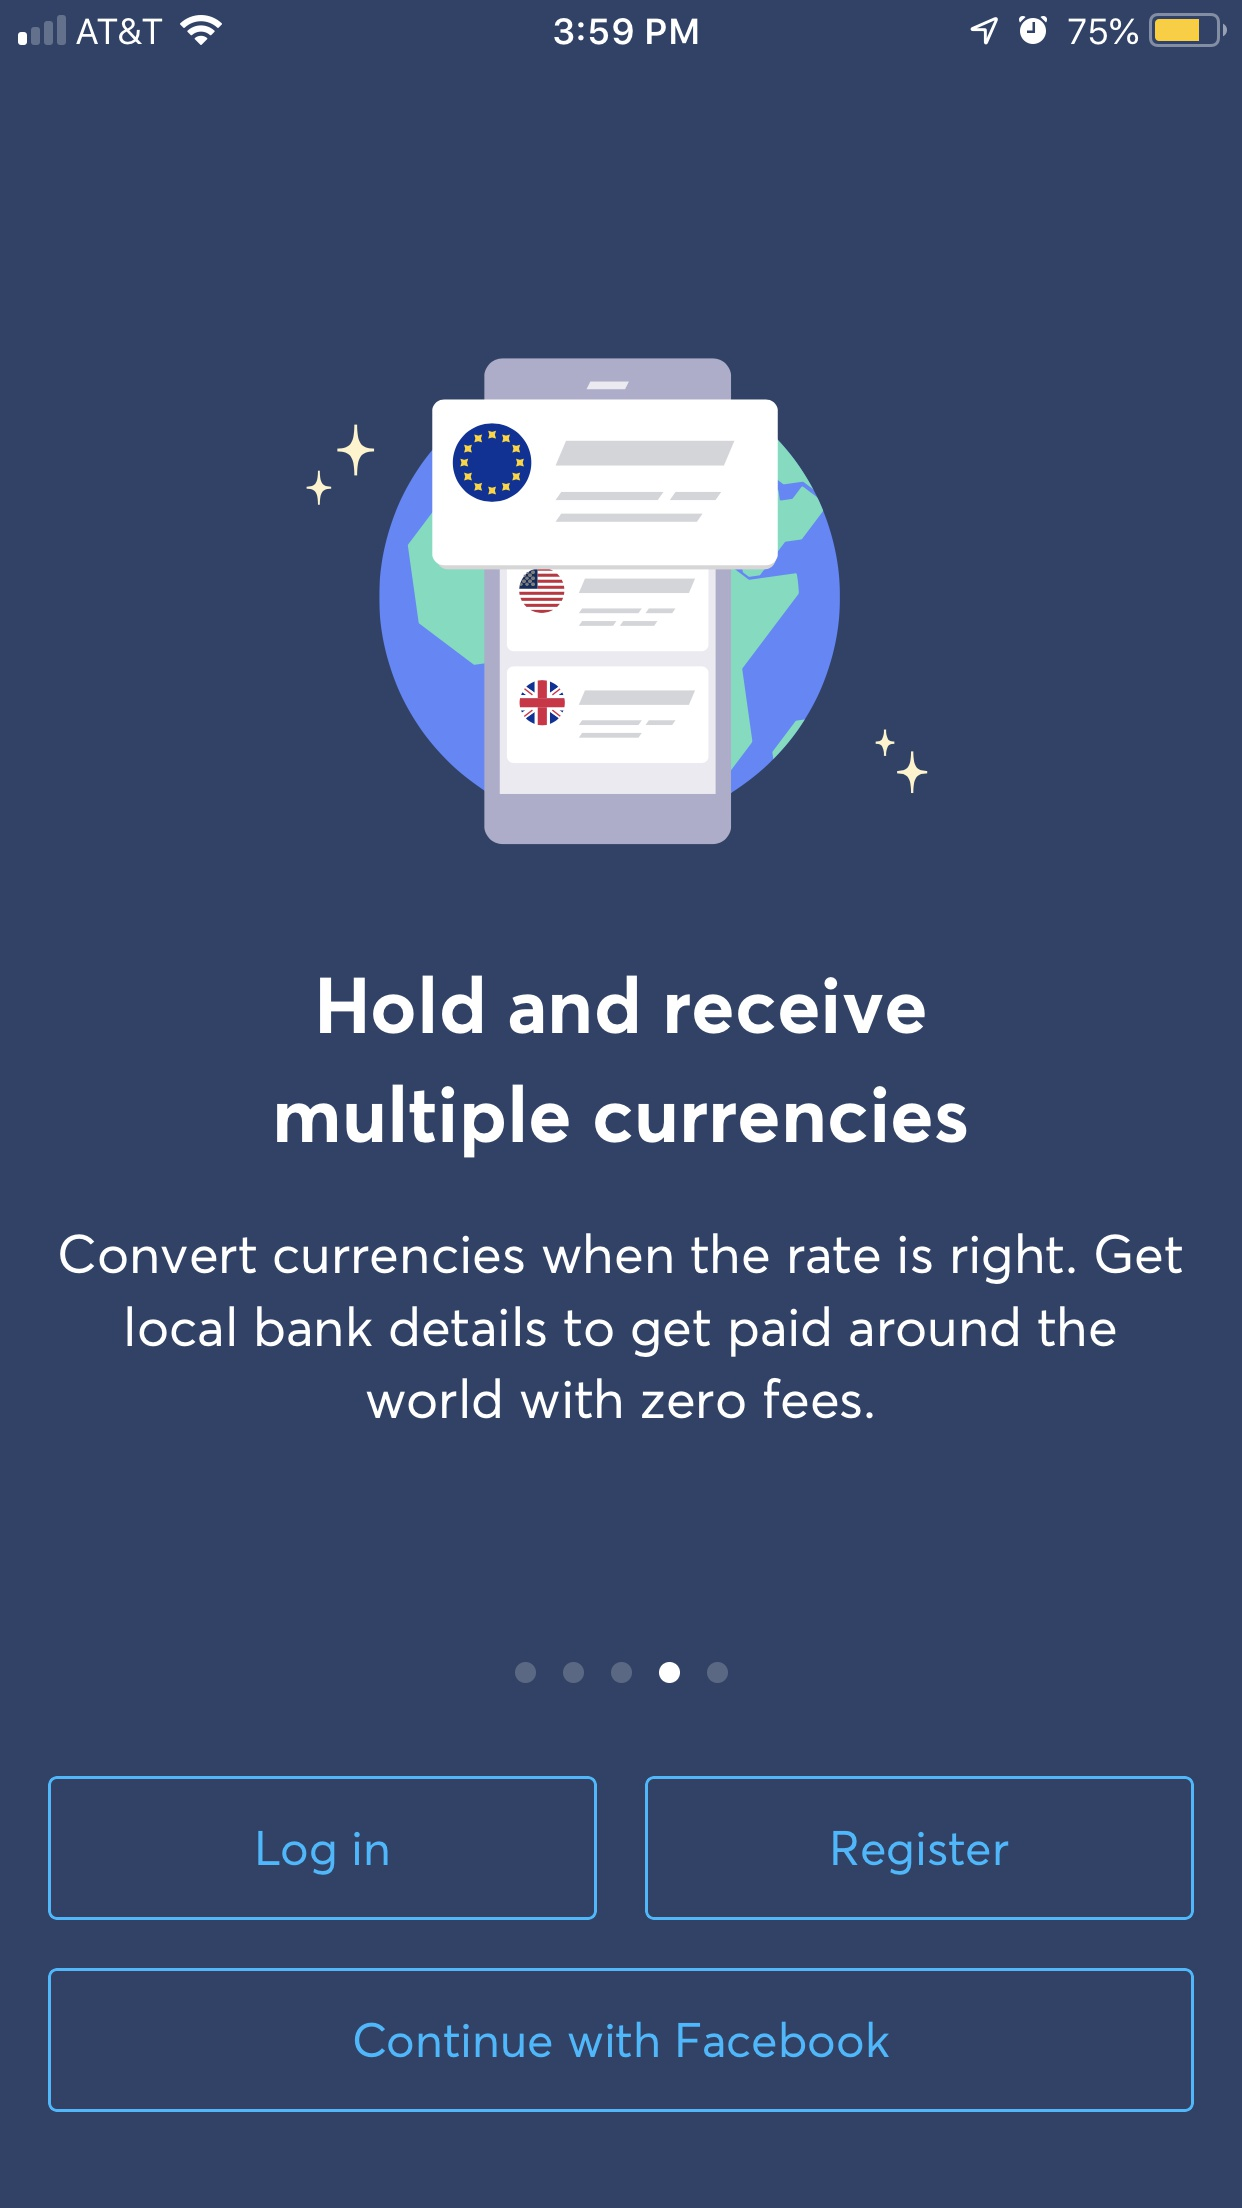Image: (305, 356, 930, 846)
PageIndicator: (514, 1661, 729, 1685)
Text: (61, 1233, 1183, 1419), (278, 975, 968, 1160)
TextButton: (49, 1967, 1195, 2112), (47, 1774, 597, 1921), (645, 1774, 1195, 1921)
UpperTaskBar: (2, 2, 1242, 49)
